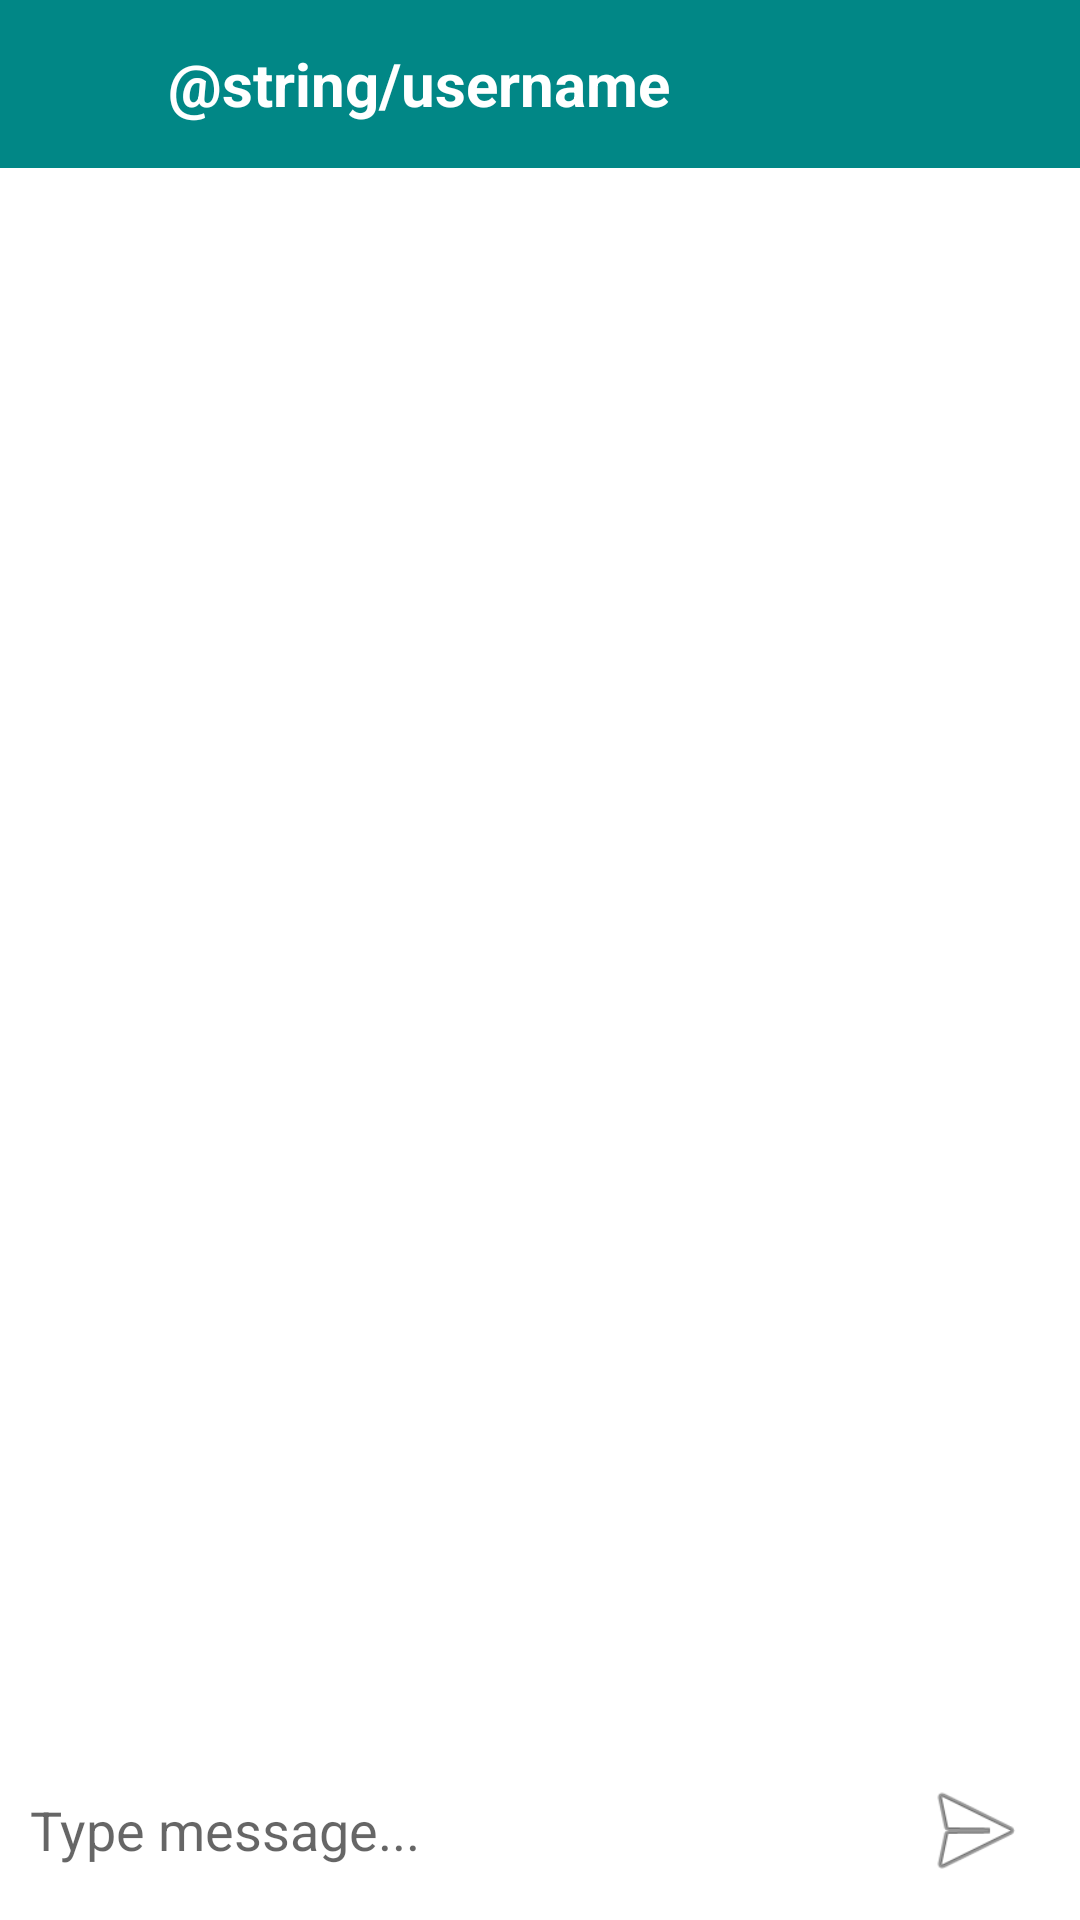

Where to tap for icons on this 1080 × 1920 app screen, as (x,y):
send: (976,1831)
